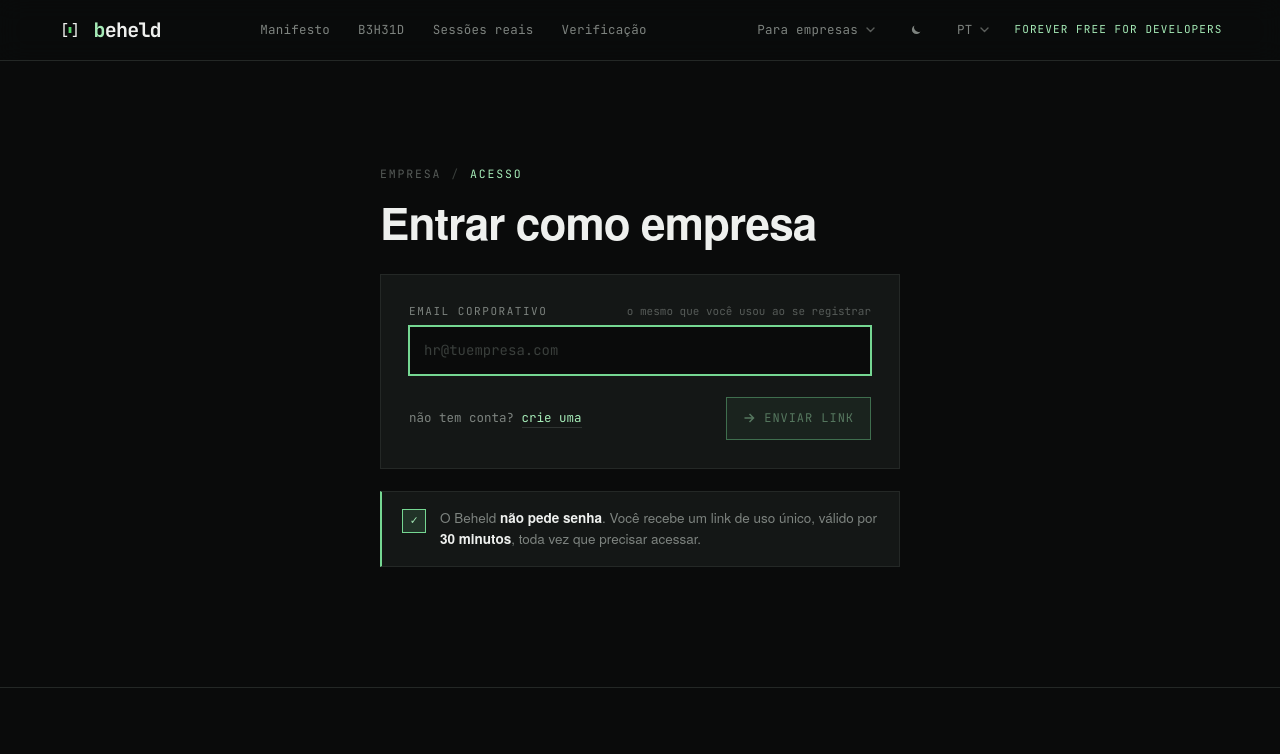
Test: CompanyLogin (login empresa, app-shell v2) › 429 shows the amber banner WITHOUT popping the user out of the sent state
The image size is (1280, 754).
Check: the form with class "login-card" is shown, box left=380, top=274, right=900, bottom=469
Type "HR@TuEmpresa.com" into the field with id "email" at (640, 350), box left=409, top=326, right=871, bottom=375
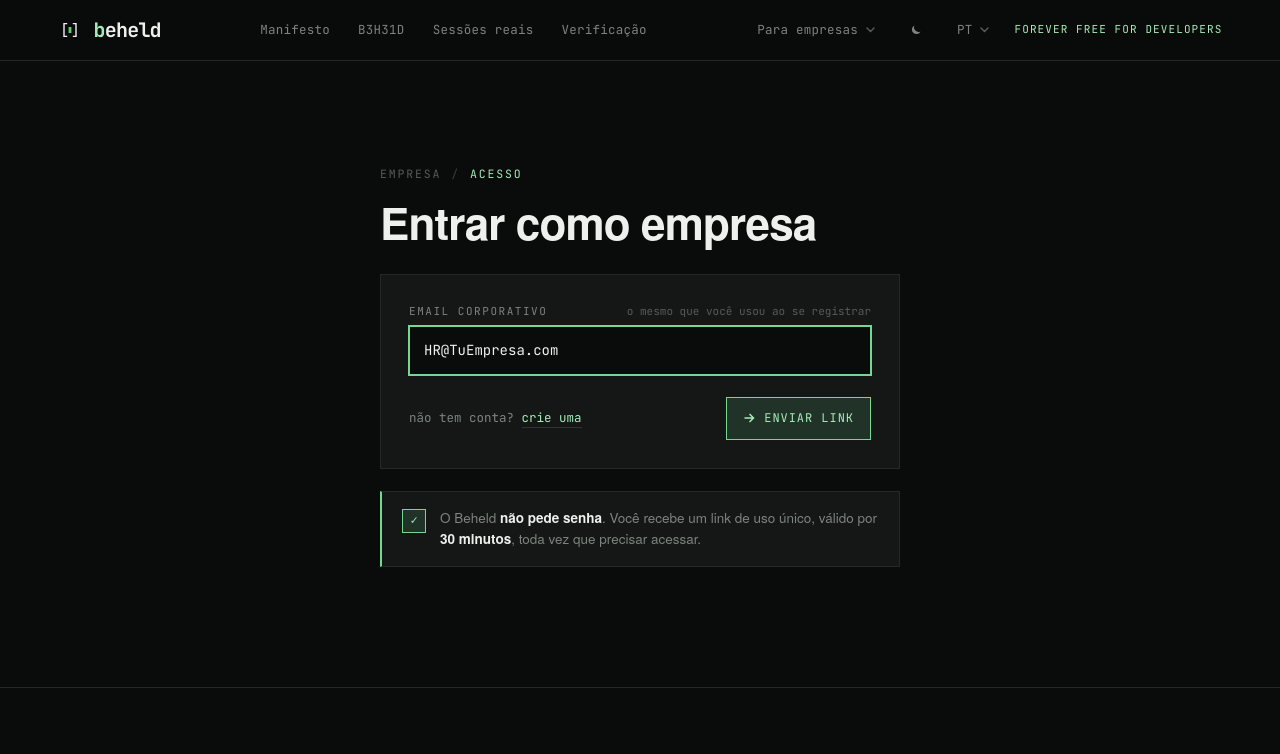
Click the button "Enviar link" at (799, 418), box left=726, top=397, right=871, bottom=440
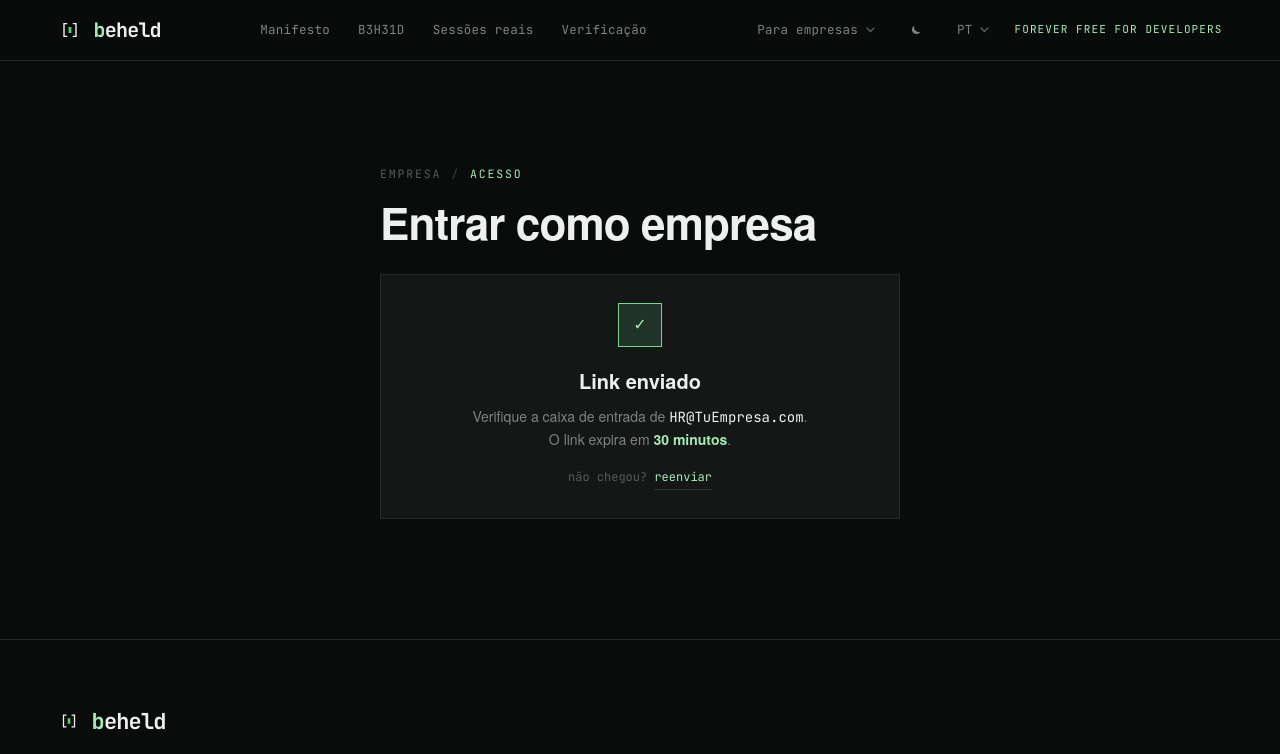
Check: the element with class "login-sent" is shown, box left=380, top=274, right=900, bottom=519
Click the button "reenviar" at (683, 479), box left=654, top=468, right=712, bottom=490
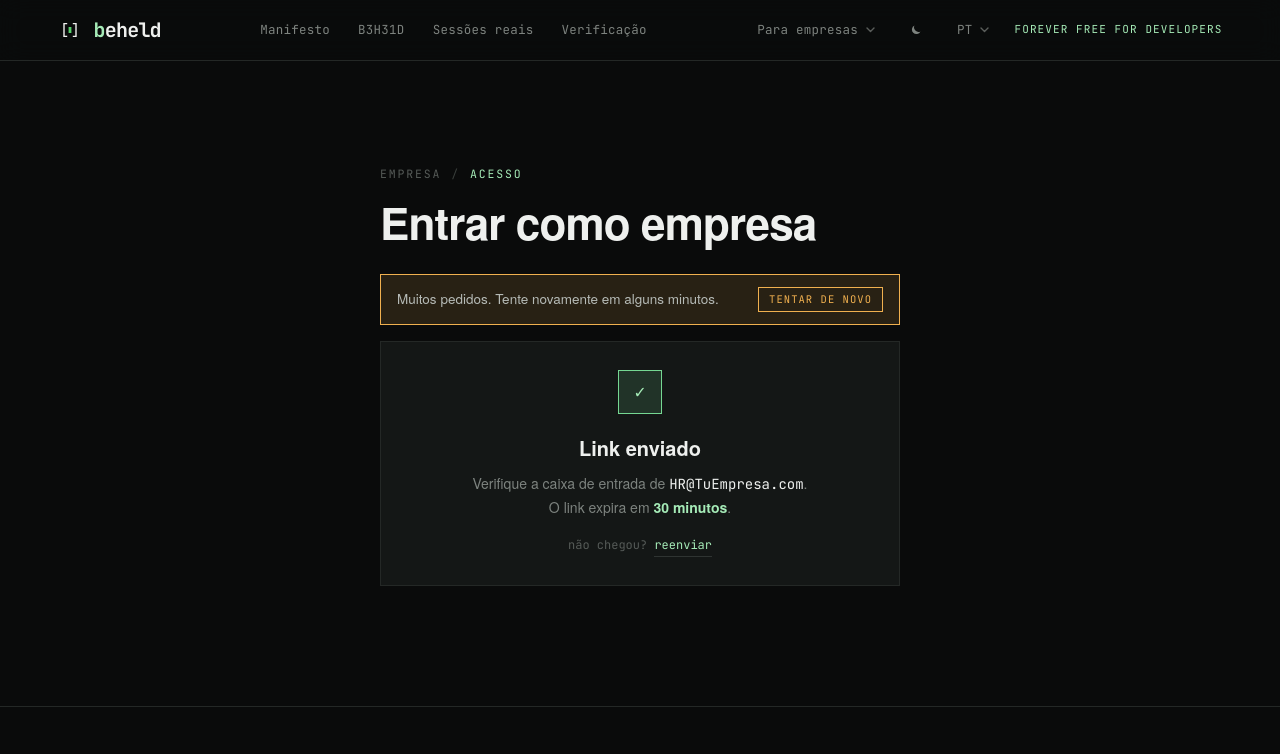
Check: the element with class "login-sent" is shown, box left=380, top=341, right=900, bottom=586
Check: the message with class "login-alert" shows "Muitos pedidos", box left=397, top=289, right=719, bottom=308
